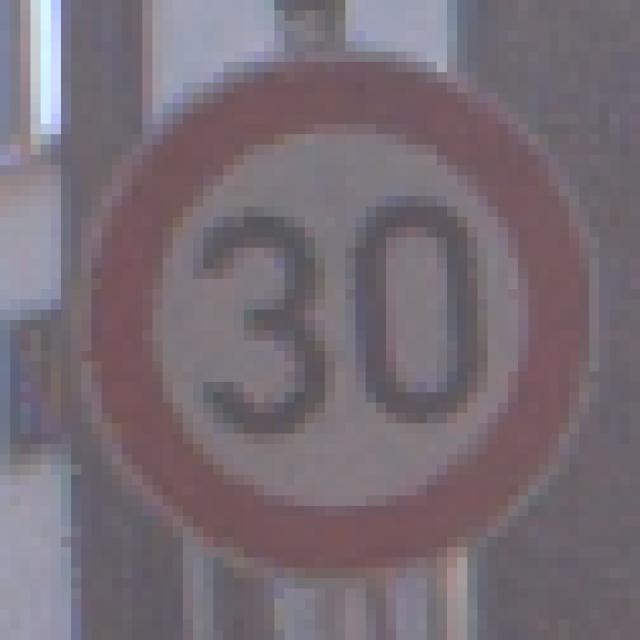Speed Limit -30-: (46, 46, 574, 584)
